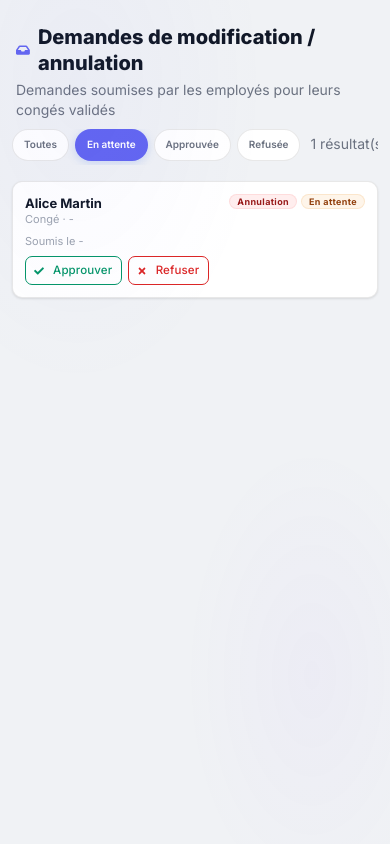
Test case: CongeActionRequestsPage › renders desktop and mobile actions for role=manager, permission=true, status=pending
Expected: the number of buttons "Refuser" is 1, [128,256,209,285]
Click the button "Approuver" at (73, 271), box [25,256,122,285]
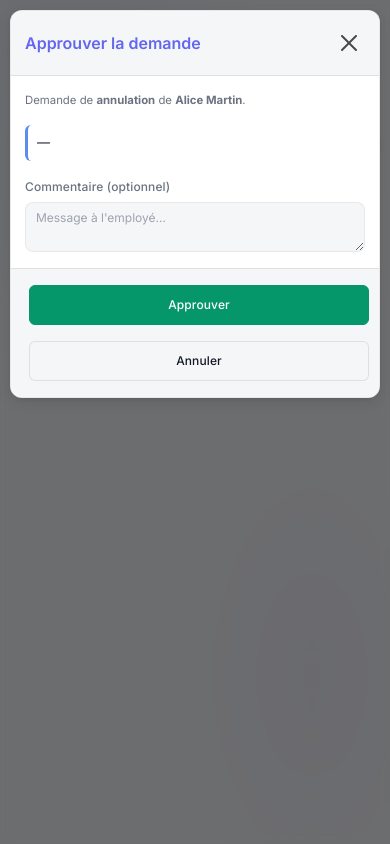
Now the text "Approuver la demande" is shown, box [25,33,201,53]
